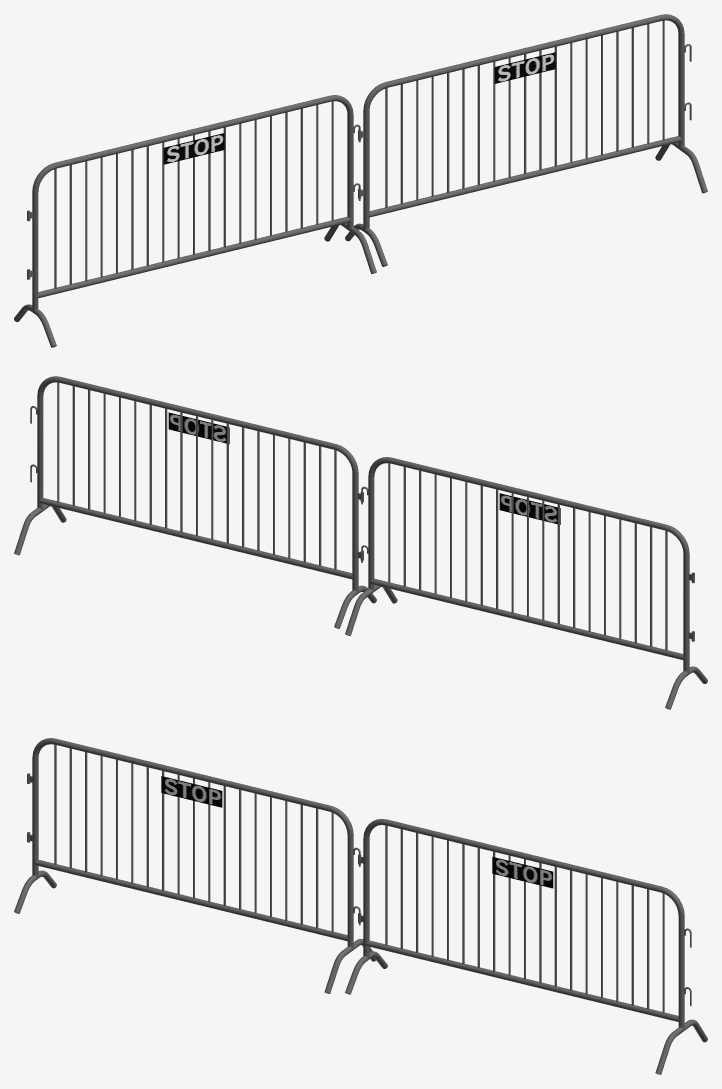
The model's file is metal_barrier.glb.
3 views of the same model, one above another, from view 1: azimuth 30°, elevation 25°; view 2: azimuth 150°, elevation 25°; view 3: azimuth 330°, elevation 25° (orthographic).
Parts seen in each view (by area): view 1: Line073, Line049, Plane001, Plane002; view 2: Line049, Line073, Plane001, Plane002; view 3: Line049, Line073, Plane001, Plane002, Line070.
Boxes of the visible parts, x1,y1,x2,y2 form: Line073: [363, 14, 684, 230]; Line049: [32, 95, 353, 311]; Plane001: [163, 133, 224, 164]; Plane002: [494, 52, 555, 83]; Line049: [368, 457, 689, 673]; Line073: [37, 376, 358, 592]; Plane001: [499, 493, 560, 524]; Plane002: [168, 412, 229, 444]; Line049: [32, 738, 353, 947]; Line073: [363, 819, 684, 1028]; Plane001: [161, 776, 222, 807]; Plane002: [492, 857, 553, 888]; Line070: [655, 1019, 707, 1074].
Size of the model in its own units: 4.97 by 1.19 by 0.6374.
Materials: 2 (1 with a texture image).
